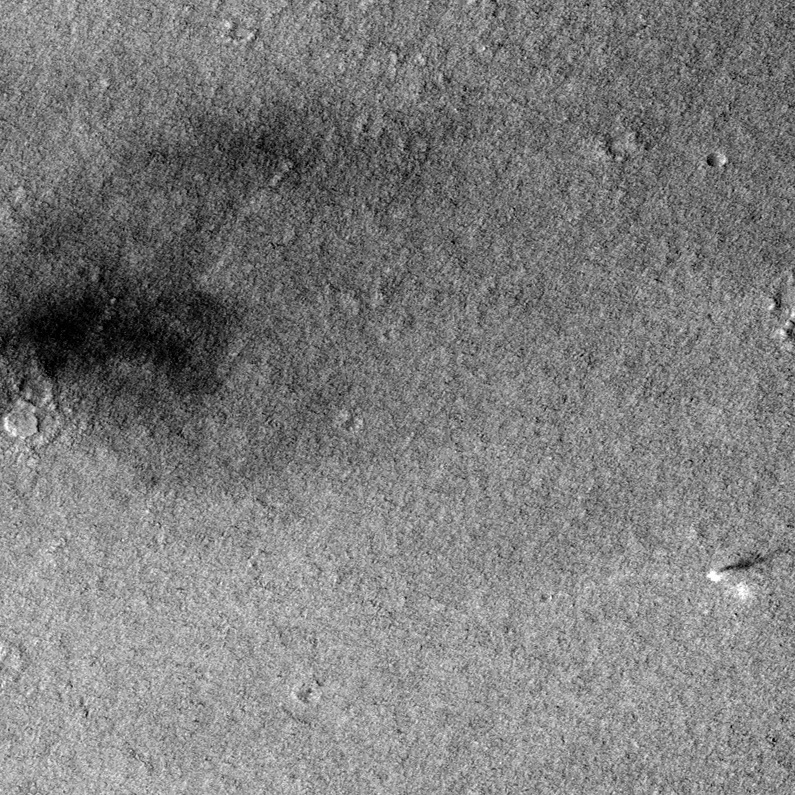dust_devil: (703, 546, 783, 603)
